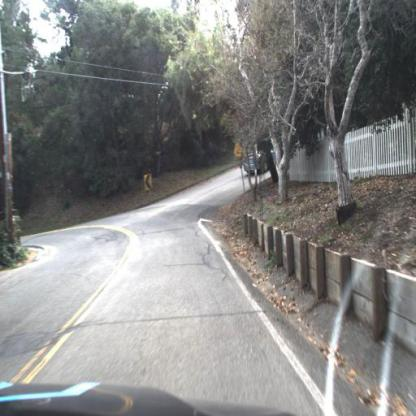car: (243, 144, 281, 179)
